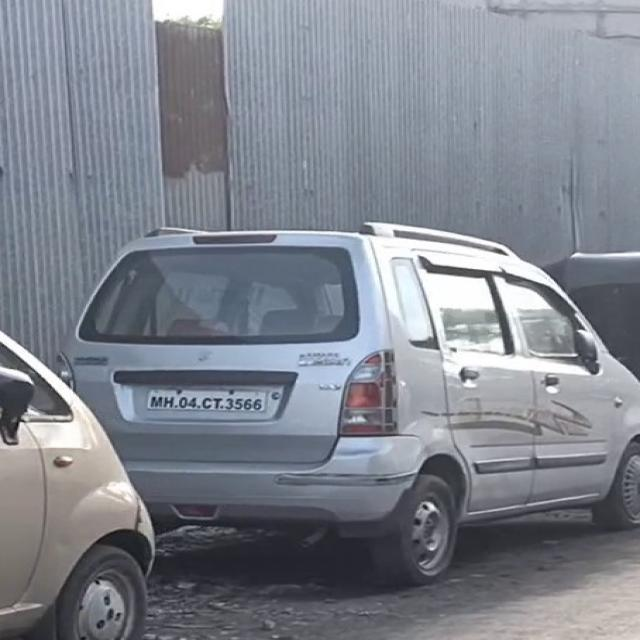Plate: (146, 390, 266, 414)
